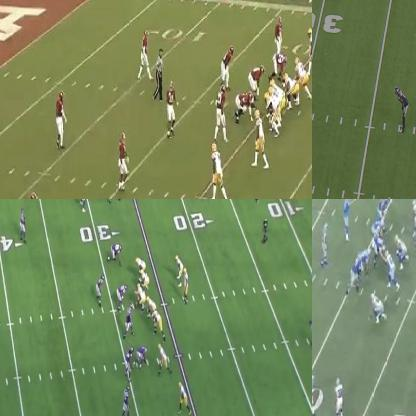CENTER: (132, 284, 146, 310), (371, 236, 387, 255), (268, 78, 277, 87)
DB: (138, 28, 152, 78), (117, 132, 128, 191), (56, 92, 67, 150), (331, 376, 347, 415), (397, 86, 407, 132), (274, 18, 284, 49), (123, 388, 132, 414), (20, 209, 26, 242), (79, 199, 89, 214)
LB: (166, 78, 180, 137), (385, 250, 399, 290), (222, 41, 230, 84), (96, 273, 105, 301), (126, 350, 134, 376), (413, 207, 415, 251)
QB: (182, 269, 191, 303), (344, 199, 351, 237)
SKILL: (211, 141, 228, 198), (253, 109, 269, 165), (214, 85, 229, 140), (157, 342, 168, 375), (178, 380, 188, 414), (305, 29, 311, 71), (176, 251, 183, 277), (322, 224, 327, 260)
